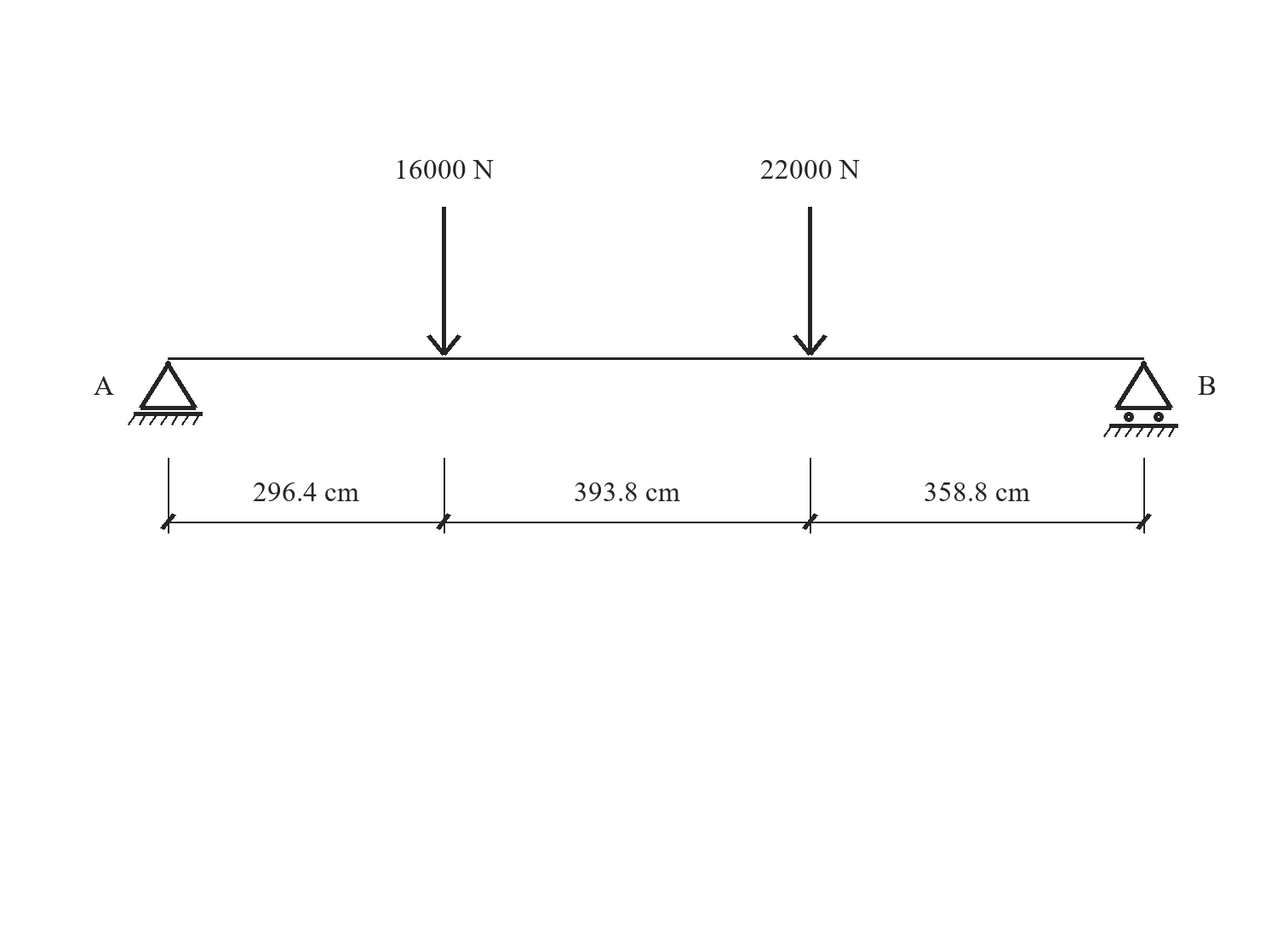pin_support: (128, 361, 203, 425)
point_load: (427, 207, 461, 356), (793, 207, 827, 356)
roller_support: (1103, 361, 1178, 437)
